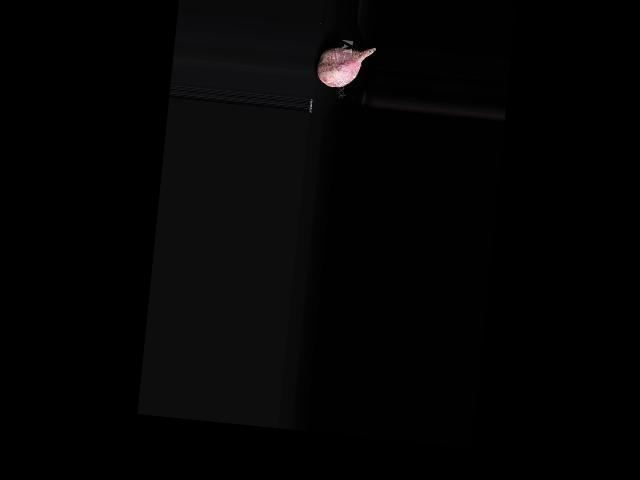beet: (315, 43, 375, 91)
